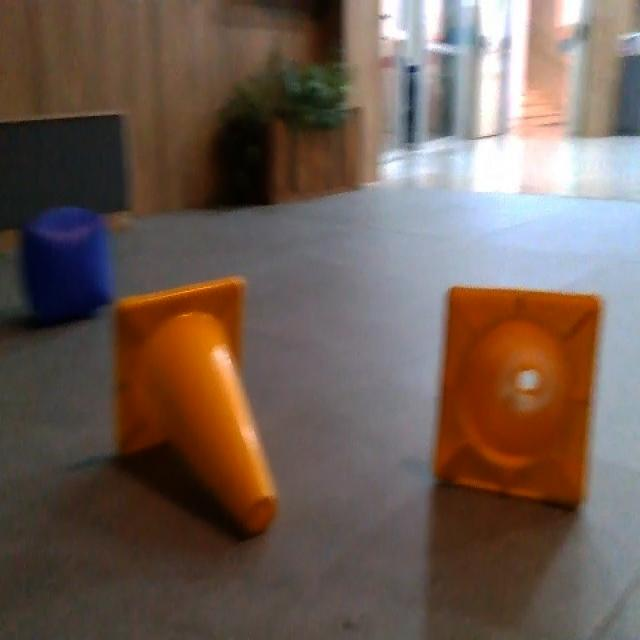cone: (119, 280, 284, 538), (439, 287, 606, 513)
cube: (19, 203, 116, 324)
